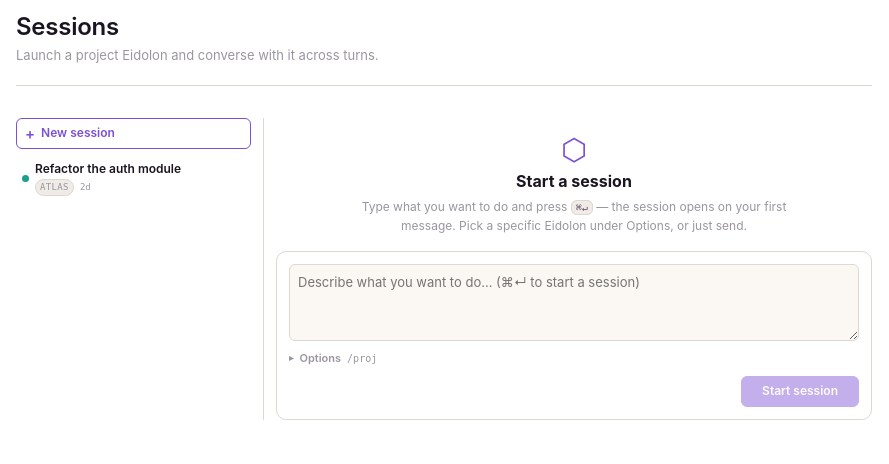
Scenario: SessionsRoute › New session clears the active selection → the composer enters create mode
The width and height of the screenshot is (889, 464).
// Open the detail view by selecting the row.
Step 1. Click the button with aria-label "Open session Refactor the auth module" → point(120, 178), box [16,155,225,202]
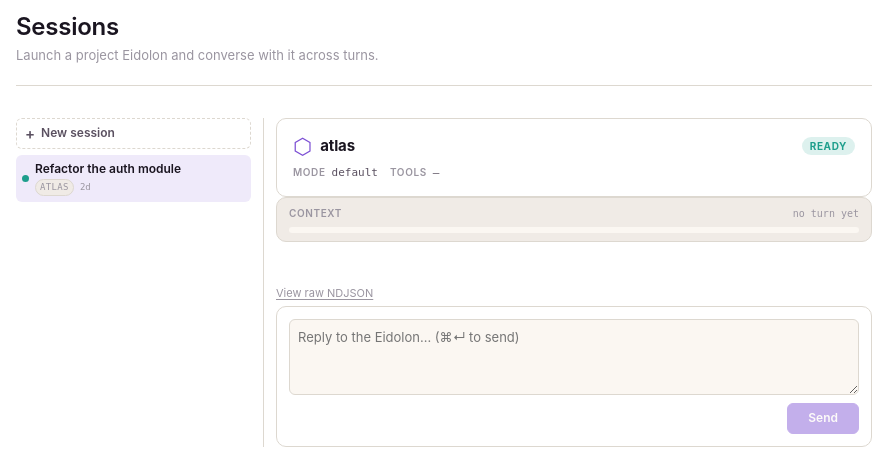
// "New session" returns to create mode.
Step 2. Click the button with aria-label "Start a new session" → point(134, 133), box [16,118,251,149]
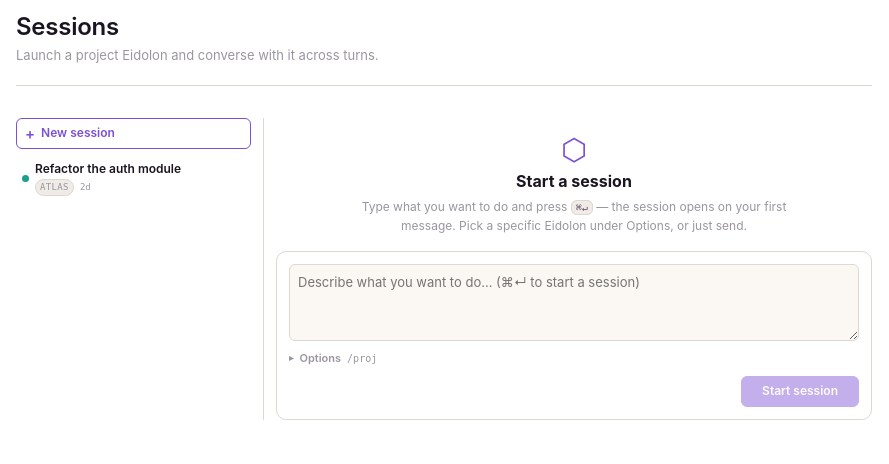
Result: the text box named "New session prompt" is shown at [289,264,859,341]
